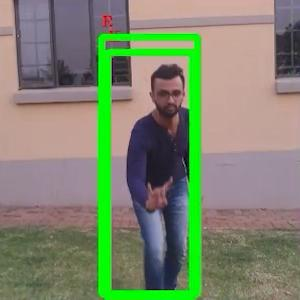takeoff-hand: (142, 173, 178, 215)
